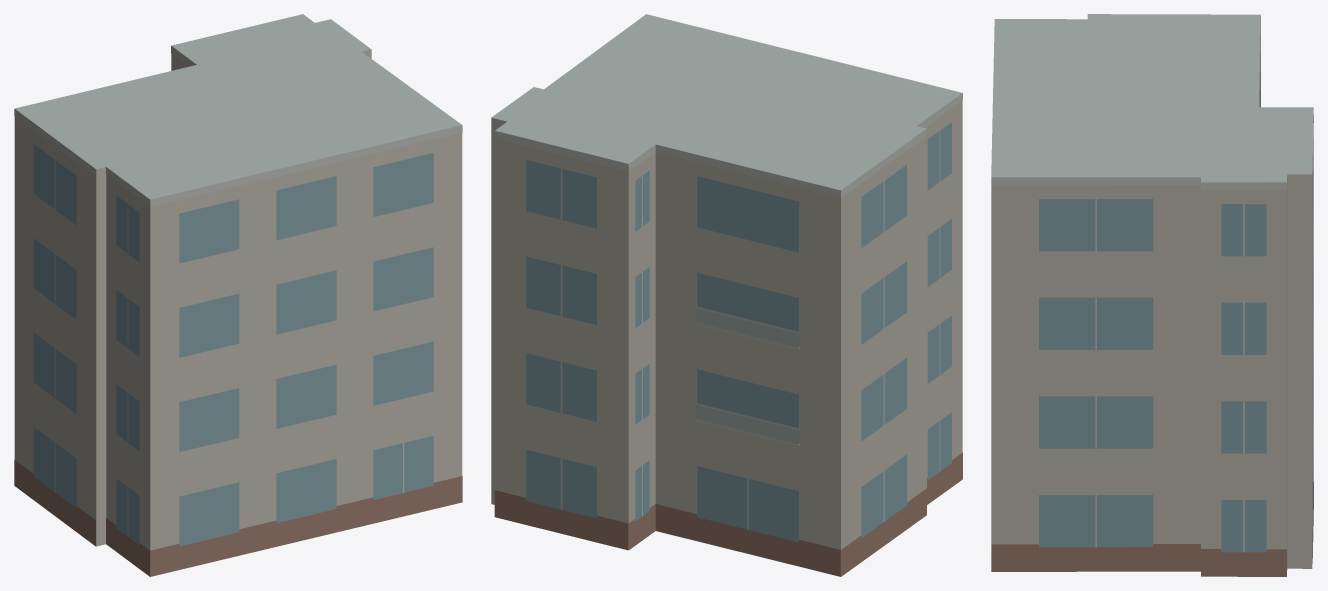
File: survey-upis-32815394.glb
The picture shows the model from 3 angles, left to right: view 1: azimuth 30°, elevation 25°; view 2: azimuth 150°, elevation 25°; view 3: azimuth 270°, elevation 25°; orthographic projection. The views are drawn at different scales.
Parts seen in each view (by area): view 1: survey-upis-32815394.tmp; view 2: survey-upis-32815394.tmp; view 3: survey-upis-32815394.tmp.
Boxes of the visible parts, x1,y1,x2,y2 form: survey-upis-32815394.tmp: (14,14,462,576); survey-upis-32815394.tmp: (491,14,962,576); survey-upis-32815394.tmp: (991,14,1313,576).
Size of the model in its own units: 11.14 by 12.15 by 9.02.
